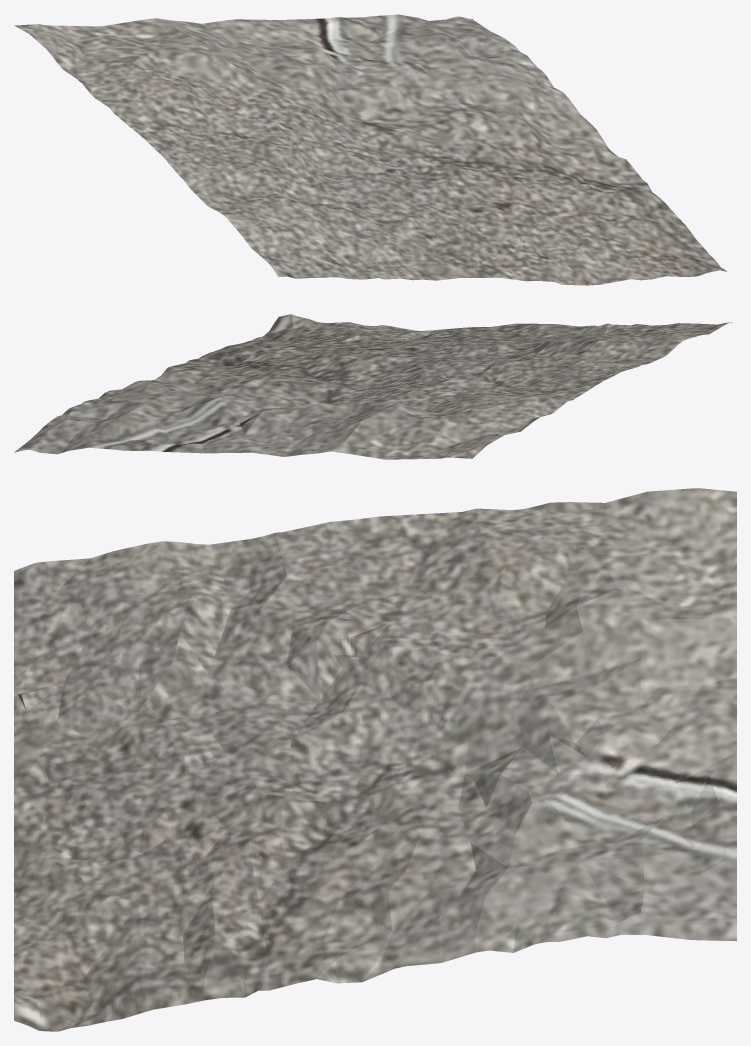
3 renders of one model, top to bottom at view 1: azimuth 30°, elevation 25°; view 2: azimuth 150°, elevation 25°; view 3: azimuth 270°, elevation 25°, orthographic. The views are drawn at different scales.
Bounding box in the file's own units: 0.8374 × 0.3043 × 0.8373.
3 materials, 3 textured.
